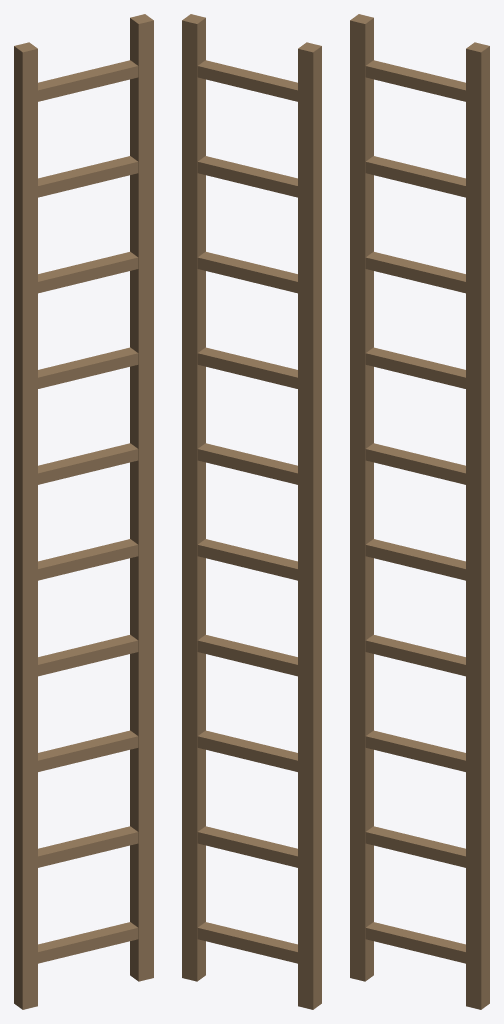
The model's file is work-ladder-10.glb.
3 views of the same model, side by side, from view 1: azimuth 30°, elevation 25°; view 2: azimuth 150°, elevation 25°; view 3: azimuth 330°, elevation 25° (orthographic).
Visible parts, largest first — view 1: work-ladder; view 2: work-ladder; view 3: work-ladder.
Part boxes in pixels (x1=…): work-ladder: x1=14, y1=14, x2=153, y2=1009; work-ladder: x1=182, y1=14, x2=321, y2=1009; work-ladder: x1=350, y1=14, x2=489, y2=1009.
Bounding box in the file's own units: 0.43 × 3 × 0.05.
